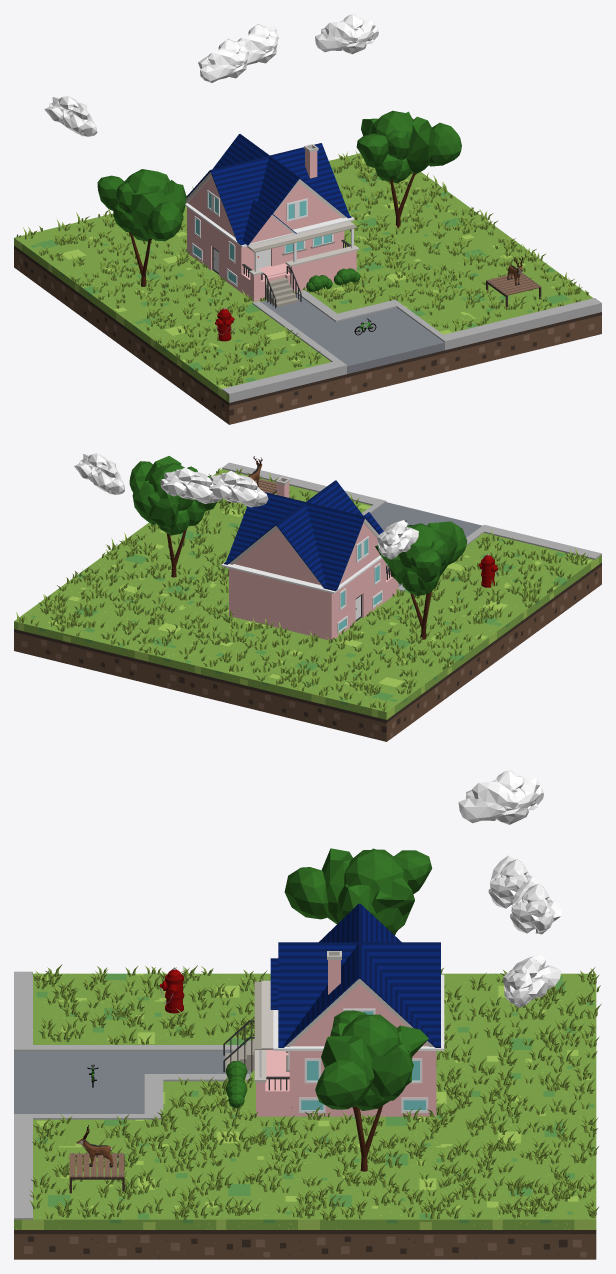
The picture shows the model from 3 angles, top to bottom: view 1: azimuth 30°, elevation 25°; view 2: azimuth 150°, elevation 25°; view 3: azimuth 270°, elevation 25°; orthographic projection. The views are drawn at different scales.
Visible parts, largest first — view 1: Cube.006, Cube.313, Circle.012_Grass_0.192, Cube.007, tree, tree.001, Cube.009; view 2: Cube.006, Cube.313, Circle.012_Grass_0.192, Cube.007, tree.001, tree, OBJRANDOM_FIRE_HYDRANT; view 3: Cube.006, Circle.012_Grass_0.192, Cube.313, tree, Cube.007, tree.001, Cube.009, OBJRANDOM_FIRE_HYDRANT.
Part boxes in pixels (box(x1,y1,x2,y2)): Cube.006: box(14, 153, 601, 424); Cube.313: box(185, 134, 359, 308); Circle.012_Grass_0.192: box(16, 150, 588, 386); Cube.007: box(44, 14, 378, 136); tree: box(356, 110, 461, 228); tree.001: box(97, 169, 186, 286); Cube.009: box(486, 272, 541, 306); Cube.006: box(14, 462, 601, 741); Cube.313: box(221, 477, 398, 640); Circle.012_Grass_0.192: box(16, 468, 588, 711); Cube.007: box(74, 453, 418, 559); tree.001: box(375, 521, 467, 639); tree: box(129, 456, 216, 577); OBJRANDOM_FIRE_HYDRANT: box(478, 554, 498, 587); Cube.006: box(14, 971, 596, 1259); Circle.012_Grass_0.192: box(29, 964, 601, 1220); Cube.313: box(223, 903, 444, 1116); tree: box(315, 1010, 428, 1171); Cube.007: box(458, 770, 561, 1007); tree.001: box(284, 848, 432, 935); Cube.009: box(69, 1153, 124, 1193); OBJRANDOM_FIRE_HYDRANT: box(160, 967, 184, 1013).
Size of the model in its own units: 4071 by 2176 by 4040.
39 materials, 3 textured.
